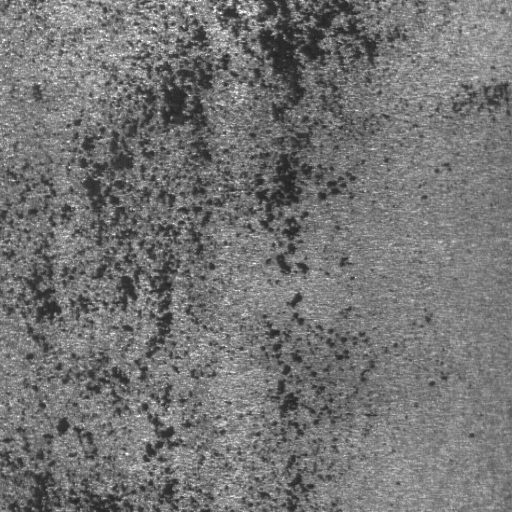xingxingliewen: (80, 24, 231, 215), (255, 1, 379, 125), (252, 152, 354, 276)
